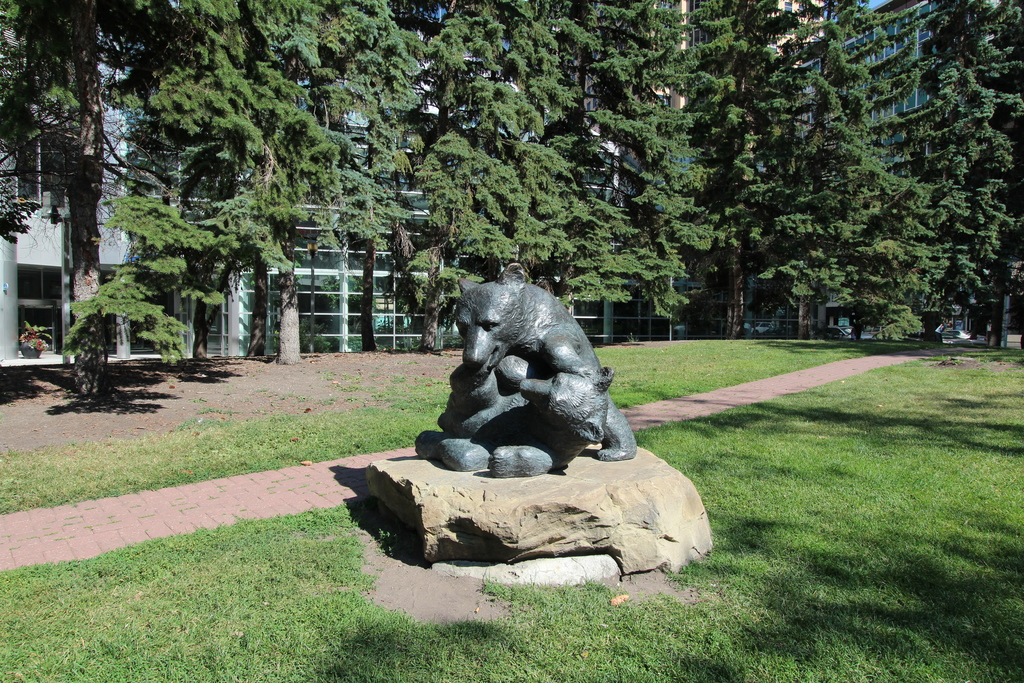Animal: (455, 261, 636, 459), (413, 354, 612, 477)
